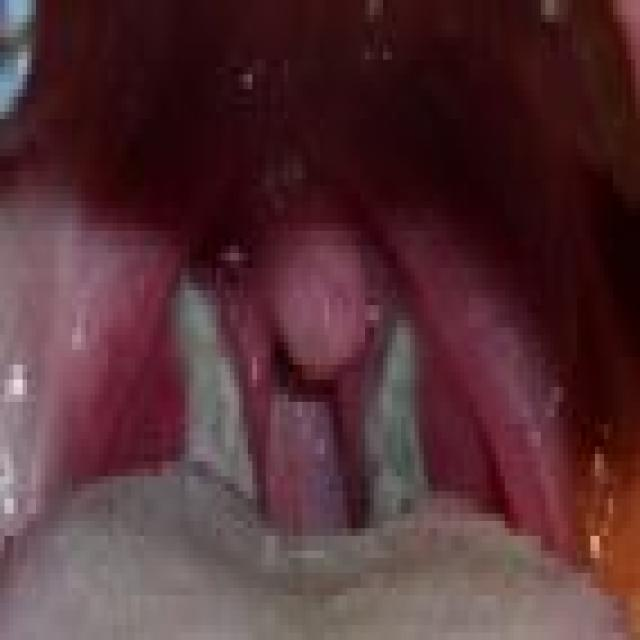pharyngitis: (151, 278, 261, 518), (358, 304, 446, 520)
